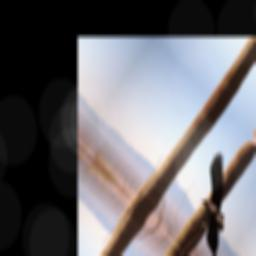Crow: (171, 148, 256, 256)
